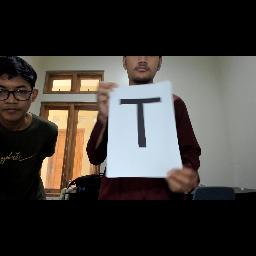t: (118, 95, 166, 155)
